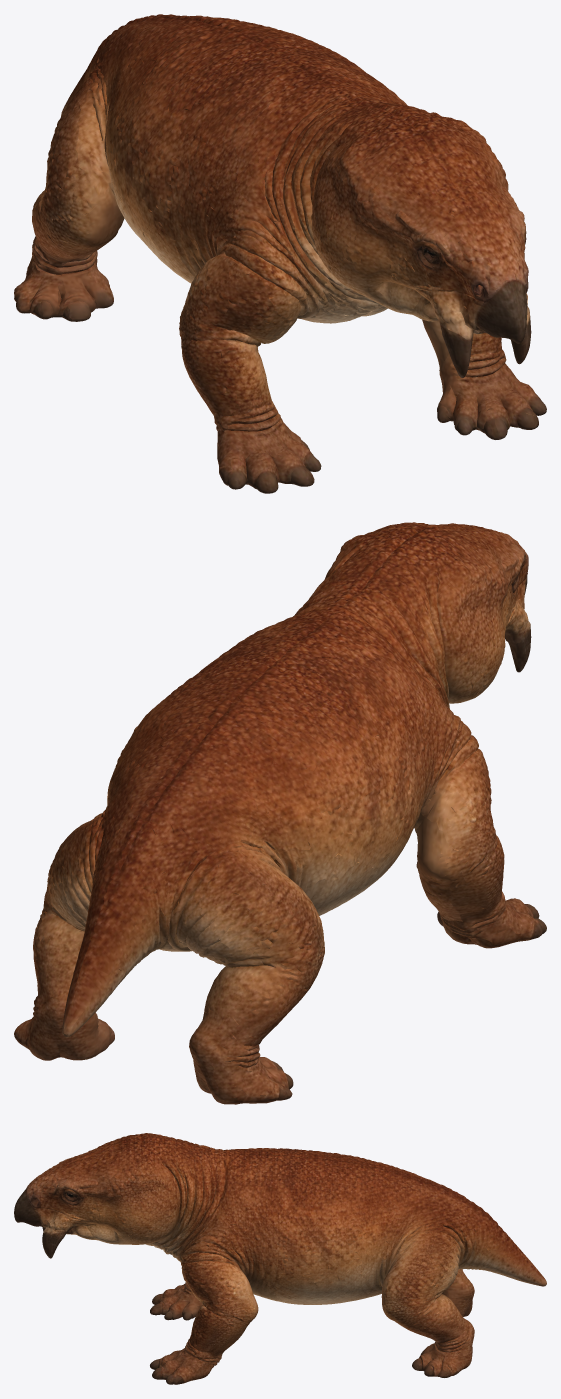
3 views of the same model, one above another, from view 1: azimuth 30°, elevation 25°; view 2: azimuth 150°, elevation 25°; view 3: azimuth 270°, elevation 25° (orthographic). The views are drawn at different scales.
Visible parts, largest first — view 1: Authored orientation; view 2: Authored orientation; view 3: Authored orientation.
Boxes of the visible parts, left/top/right/bottom form: Authored orientation: left=14, top=14, right=546, bottom=493; Authored orientation: left=14, top=522, right=546, bottom=1104; Authored orientation: left=14, top=1133, right=546, bottom=1384.
Bounding box in the file's own units: 0.3995 × 0.4174 × 1.
Materials: 1 (1 with a texture image).
